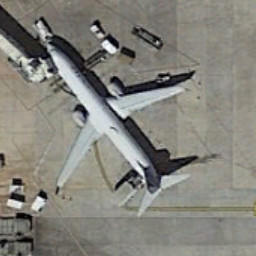Airplane: (26, 33, 204, 220)
